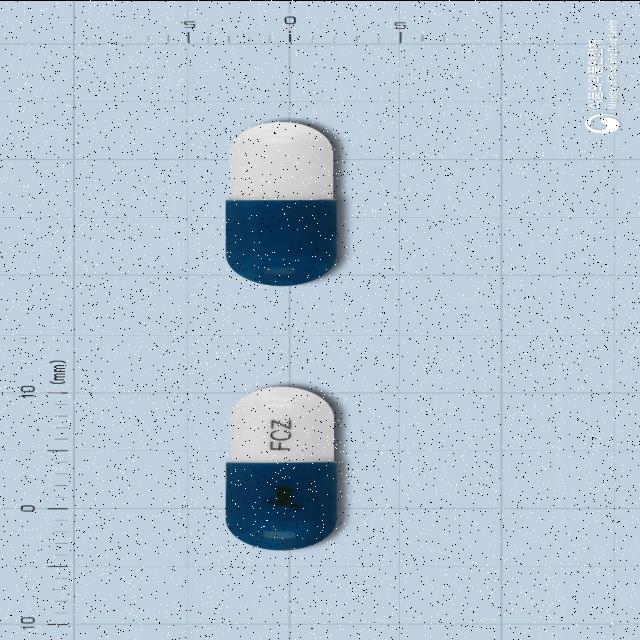Oneflu Cap: (223, 383, 339, 550)
